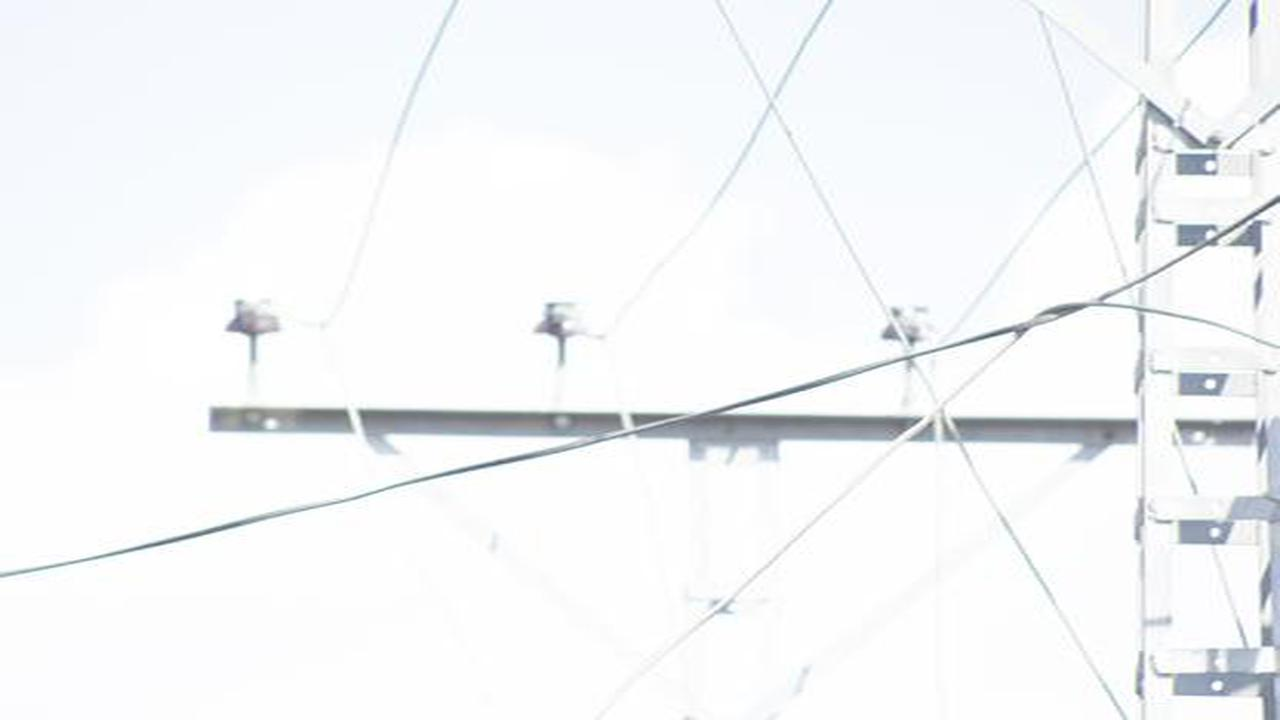insulator_pin: (878, 299, 941, 351), (222, 291, 283, 342), (539, 298, 589, 342)
